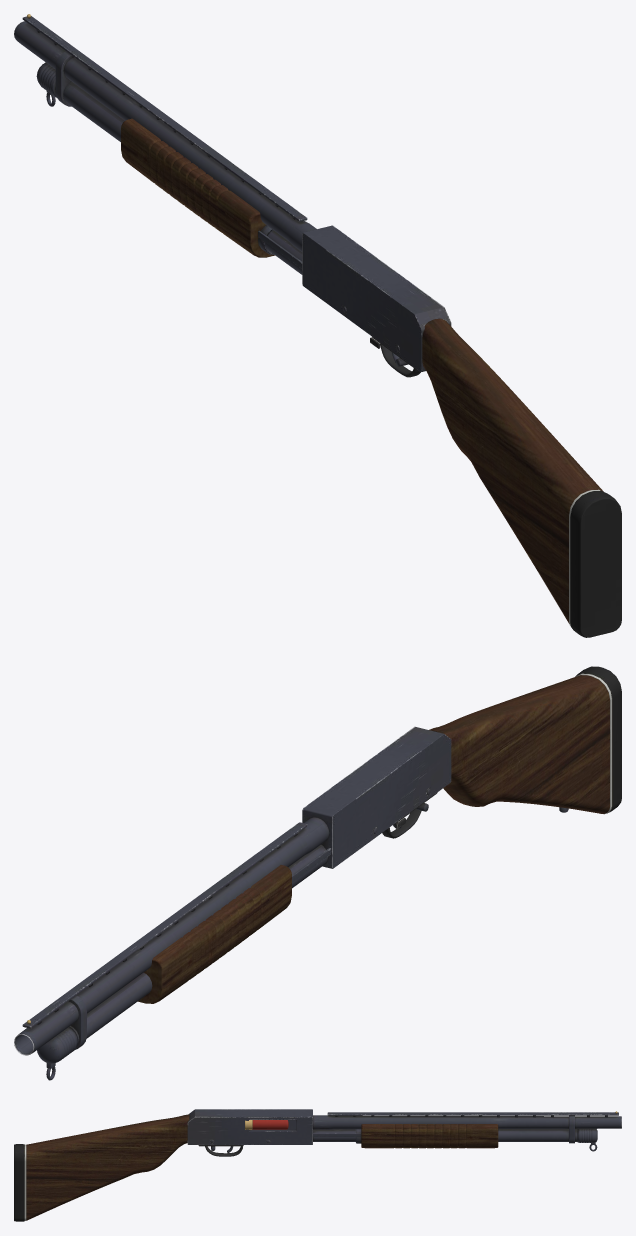
File: weapon_shotgun.glb
3 views of the same model, one above another, from view 1: azimuth 30°, elevation 25°; view 2: azimuth 150°, elevation 25°; view 3: azimuth 270°, elevation 25° (orthographic). The views are drawn at different scales.
Parts seen in each view (by area): view 1: Body, Pump; view 2: Body, Pump; view 3: Body, Pump, Shell.
Part boxes in pixels (left/top/right/bottom): Body: left=14, top=14, right=621, bottom=637; Pump: left=121, top=118, right=302, bottom=268; Body: left=14, top=666, right=621, bottom=1080; Pump: left=138, top=848, right=330, bottom=1003; Body: left=14, top=1109, right=621, bottom=1221; Pump: left=313, top=1124, right=498, bottom=1148; Shell: left=245, top=1120, right=288, bottom=1129.
Bounding box in the file's own units: 0.0455 × 0.1931 × 0.998.
2 materials, 2 textured.
